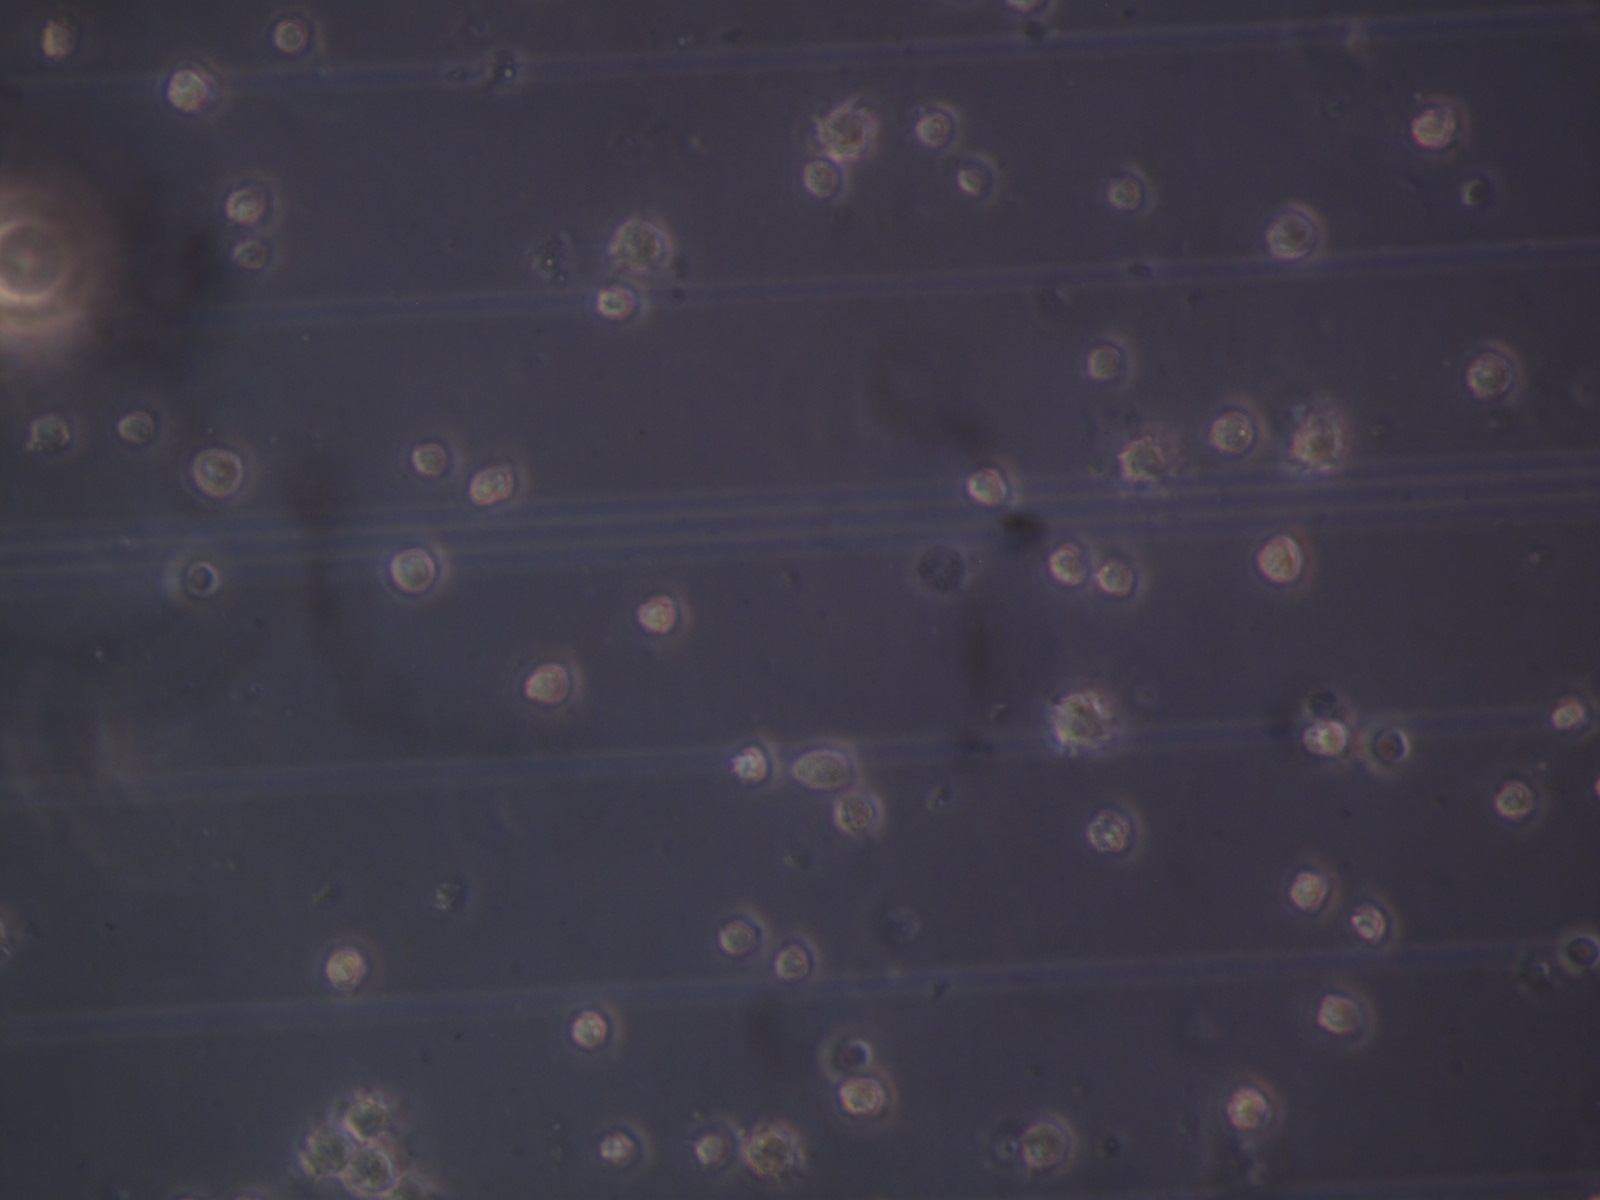hemo: (180, 432, 258, 505), (1048, 681, 1116, 755), (603, 211, 677, 279), (386, 534, 451, 604), (326, 926, 387, 1000), (522, 648, 586, 716), (1254, 522, 1317, 591), (791, 734, 860, 795), (1317, 978, 1377, 1049), (1083, 799, 1148, 865), (834, 1065, 900, 1129), (1284, 848, 1340, 920), (1020, 1111, 1078, 1180), (164, 50, 226, 115), (1468, 338, 1526, 406), (1267, 198, 1327, 263), (1226, 1079, 1288, 1141), (226, 168, 287, 229), (1414, 92, 1471, 158), (964, 454, 1026, 514), (1213, 397, 1270, 463), (1359, 708, 1414, 776), (816, 107, 879, 165), (1546, 677, 1597, 747), (568, 997, 627, 1058), (1495, 764, 1550, 829), (690, 1112, 745, 1177), (1351, 884, 1403, 950), (1086, 326, 1138, 395), (1117, 434, 1177, 492), (637, 584, 695, 643), (459, 458, 524, 509), (1291, 410, 1346, 471), (746, 1118, 803, 1176), (1095, 546, 1150, 605), (596, 1118, 653, 1175), (726, 730, 781, 788), (1301, 715, 1357, 770), (820, 1024, 873, 1082), (164, 551, 222, 604), (595, 274, 653, 326), (713, 903, 770, 955), (268, 8, 324, 61), (1107, 163, 1159, 218), (955, 149, 1002, 208), (772, 933, 821, 988), (804, 153, 854, 205), (1041, 534, 1091, 587), (236, 229, 286, 279), (915, 98, 961, 151), (833, 792, 884, 838), (409, 437, 455, 482), (117, 408, 163, 451), (1558, 926, 1599, 974), (29, 411, 76, 451), (42, 15, 81, 55)
